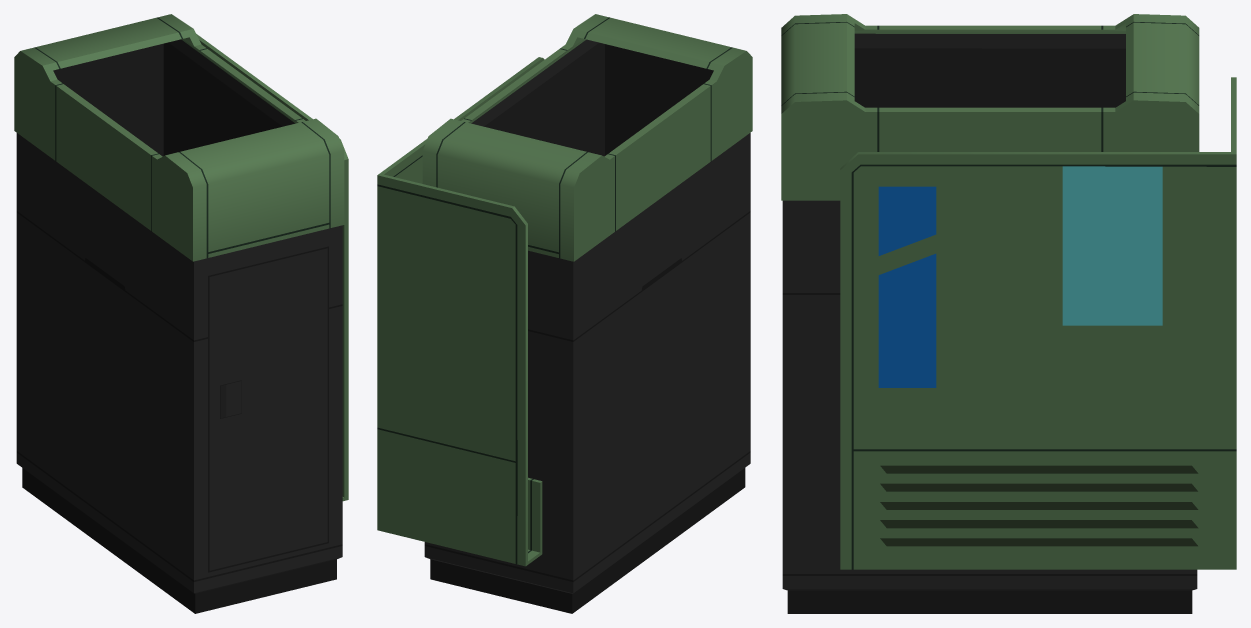
Rendered from W_O_Trash_001_L1.fbx.
3 views of the same model, side by side, from view 1: azimuth 30°, elevation 25°; view 2: azimuth 150°, elevation 25°; view 3: azimuth 270°, elevation 25° (orthographic). The views are drawn at different scales.
Parts seen in each view (by area): view 1: W_O_Trash_001_L1; view 2: W_O_Trash_001_L1; view 3: W_O_Trash_001_L1.
Boxes of the visible parts, box(x1,y1,x2,y2) form: W_O_Trash_001_L1: box(14, 14, 348, 613); W_O_Trash_001_L1: box(377, 14, 752, 613); W_O_Trash_001_L1: box(781, 14, 1236, 613).
Bounding box in the file's own units: 0.38 × 0.8846 × 0.7072.
